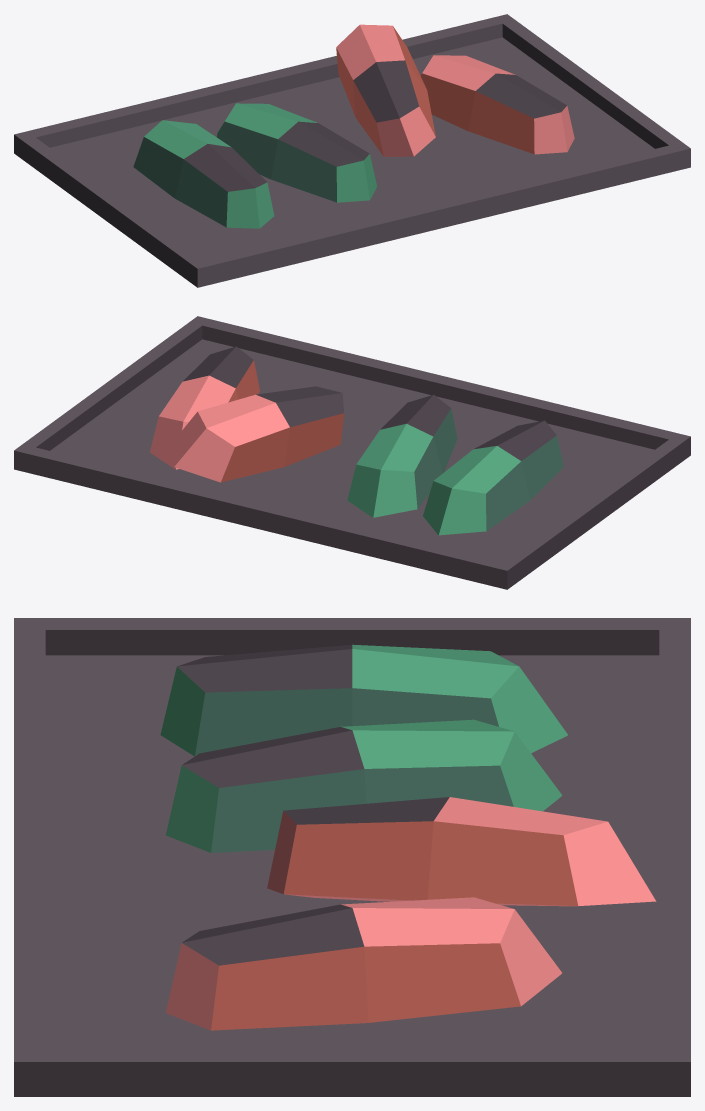
The model's file is Shoe Mat.fbx.
3 renders of one model, top to bottom at view 1: azimuth 30°, elevation 25°; view 2: azimuth 150°, elevation 25°; view 3: azimuth 270°, elevation 25°, orthographic. The views are drawn at different scales.
Visible parts, largest first — view 1: Shoe Mat; view 2: Shoe Mat; view 3: Shoe Mat.
Boxes of the visible parts, <box> form: Shoe Mat: <box>14,14,690,287</box>; Shoe Mat: <box>14,316,690,589</box>; Shoe Mat: <box>14,618,690,1096</box>.
Size of the model in its own units: 122 by 16.32 by 78.55.
